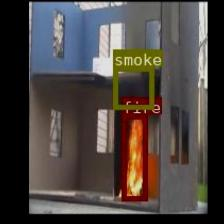fire: (121, 113, 146, 200)
smoke: (113, 66, 153, 108)
